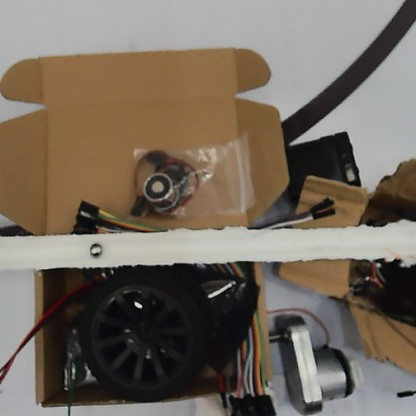ironball: (86, 238, 105, 259)
